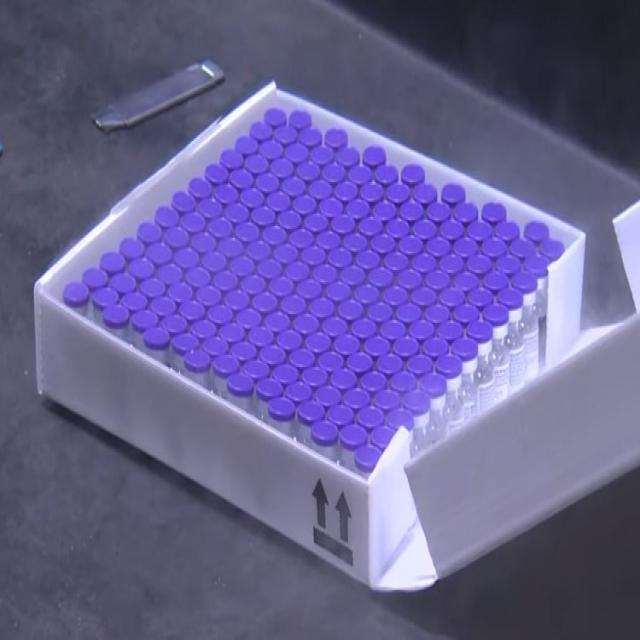vial: (393, 301, 424, 324), (212, 350, 238, 376), (233, 338, 257, 364), (367, 266, 395, 288), (290, 382, 314, 407), (103, 308, 136, 324), (316, 389, 342, 409), (360, 408, 383, 430), (63, 282, 88, 302), (276, 124, 301, 144), (329, 405, 356, 423), (187, 351, 209, 373), (222, 148, 244, 170), (172, 332, 196, 352), (272, 396, 292, 420), (414, 183, 438, 203), (245, 361, 270, 380), (380, 352, 401, 374), (341, 298, 362, 320), (313, 422, 336, 442), (424, 337, 447, 357), (400, 199, 425, 217), (140, 278, 166, 295), (214, 184, 240, 201), (127, 291, 148, 312), (180, 298, 202, 318), (190, 175, 212, 195), (409, 391, 428, 414), (220, 322, 243, 341), (192, 320, 216, 338), (437, 356, 462, 373), (296, 313, 316, 334), (273, 277, 293, 298), (247, 155, 268, 175), (236, 136, 257, 156), (302, 400, 321, 422), (412, 220, 438, 236), (133, 311, 156, 329), (259, 380, 282, 398), (304, 366, 327, 384), (250, 122, 273, 140), (359, 448, 379, 468), (262, 344, 282, 364), (161, 265, 181, 285), (200, 283, 219, 304), (370, 303, 389, 324), (156, 208, 177, 227), (525, 253, 547, 271), (429, 238, 451, 256), (211, 218, 233, 236), (307, 212, 329, 230), (208, 165, 230, 183), (290, 348, 313, 365), (166, 227, 189, 244), (498, 222, 524, 237), (525, 222, 549, 238), (232, 374, 252, 393), (323, 352, 342, 372), (424, 375, 443, 395), (343, 426, 364, 444), (354, 319, 375, 337), (542, 239, 563, 257), (216, 272, 237, 290), (276, 243, 297, 261), (444, 185, 465, 203), (146, 330, 168, 347), (227, 292, 249, 309), (176, 250, 198, 267), (232, 171, 254, 188), (317, 233, 340, 249), (359, 218, 382, 234), (259, 142, 282, 158), (469, 320, 488, 339), (430, 303, 449, 322), (290, 263, 309, 282), (183, 212, 202, 231), (373, 430, 393, 448), (395, 370, 413, 390), (379, 389, 394, 413), (277, 366, 297, 384), (325, 316, 345, 334), (412, 320, 432, 338), (473, 286, 493, 304), (388, 185, 412, 200), (335, 216, 355, 234), (86, 269, 107, 286), (102, 253, 123, 270), (219, 236, 240, 253), (344, 233, 365, 250), (405, 167, 426, 184), (111, 274, 133, 290), (395, 337, 417, 353), (253, 209, 275, 225), (303, 128, 325, 144), (267, 110, 289, 126), (269, 192, 291, 208), (243, 188, 265, 204), (343, 267, 366, 282), (386, 220, 409, 235), (287, 178, 310, 193), (280, 330, 298, 349), (148, 243, 168, 260), (470, 253, 490, 270), (486, 238, 506, 255), (280, 211, 300, 228), (364, 146, 384, 163), (92, 290, 120, 302), (206, 338, 227, 354), (121, 240, 142, 256), (350, 354, 371, 370), (300, 280, 321, 296), (244, 276, 265, 292), (139, 223, 160, 239), (296, 194, 317, 210), (514, 274, 536, 289), (374, 237, 396, 252), (314, 265, 336, 280), (472, 223, 494, 238), (375, 201, 397, 216), (292, 110, 314, 125), (415, 286, 433, 304), (253, 293, 272, 310), (383, 320, 402, 337), (501, 289, 520, 306), (332, 372, 355, 386), (173, 194, 196, 208), (349, 167, 372, 181), (132, 260, 152, 276), (364, 374, 384, 390), (486, 306, 506, 322), (428, 271, 448, 287), (514, 239, 534, 255), (305, 246, 325, 262), (364, 183, 384, 199), (339, 148, 359, 164), (325, 166, 345, 182), (288, 146, 308, 162), (274, 160, 294, 176), (188, 271, 209, 286), (314, 146, 335, 161), (168, 283, 194, 295), (454, 340, 476, 354), (412, 254, 434, 268), (484, 204, 506, 218), (258, 175, 280, 189), (212, 306, 230, 323), (240, 310, 258, 327), (261, 259, 279, 276), (323, 198, 341, 215), (164, 316, 183, 332), (154, 298, 173, 314), (443, 288, 462, 304), (488, 270, 504, 289), (204, 253, 223, 269), (338, 182, 357, 198), (349, 200, 368, 216), (300, 162, 319, 178), (457, 304, 478, 318), (357, 286, 378, 300), (497, 256, 518, 270), (194, 234, 215, 248), (326, 132, 347, 146), (269, 314, 287, 330), (368, 338, 384, 356), (441, 320, 459, 336), (387, 286, 405, 302), (458, 274, 476, 290), (402, 272, 420, 288), (378, 167, 396, 183), (247, 242, 269, 255), (457, 205, 479, 218), (347, 390, 366, 405), (444, 254, 463, 269), (402, 237, 421, 252), (359, 250, 378, 265), (409, 358, 429, 372), (202, 200, 222, 214), (329, 250, 349, 264), (388, 255, 409, 268), (310, 333, 326, 350), (233, 258, 250, 274), (338, 338, 356, 353), (239, 223, 257, 238), (294, 229, 312, 244), (312, 300, 331, 314), (456, 240, 475, 254), (227, 204, 246, 218), (313, 182, 332, 196), (249, 330, 271, 342), (285, 296, 301, 312), (445, 222, 462, 237), (430, 201, 448, 215), (265, 227, 284, 240), (331, 283, 347, 298), (391, 412, 409, 425)
